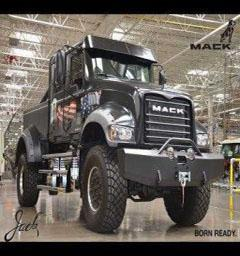truck: (7, 28, 228, 236)
